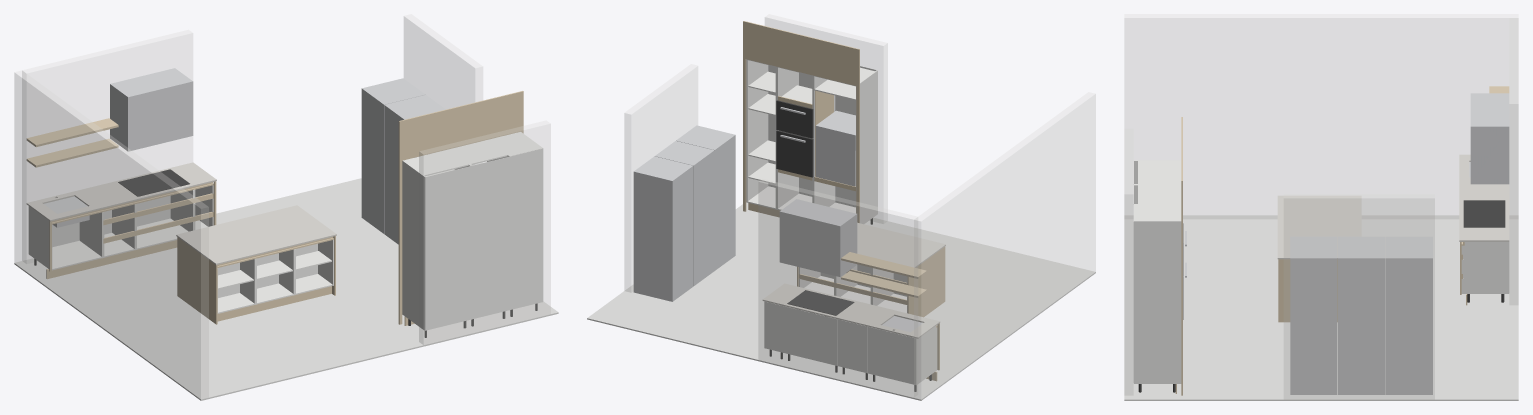
File: korpus.glb
3 renders of one model, left to right at view 1: azimuth 30°, elevation 25°; view 2: azimuth 150°, elevation 25°; view 3: azimuth 270°, elevation 25°, orthographic. The views are drawn at different scales.
Bounding box in the file's own units: 5495 × 3004 × 4973.
